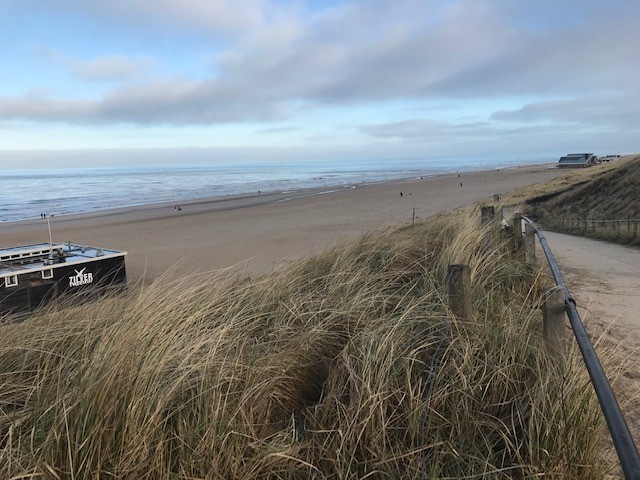pad: (516, 213, 640, 396)
